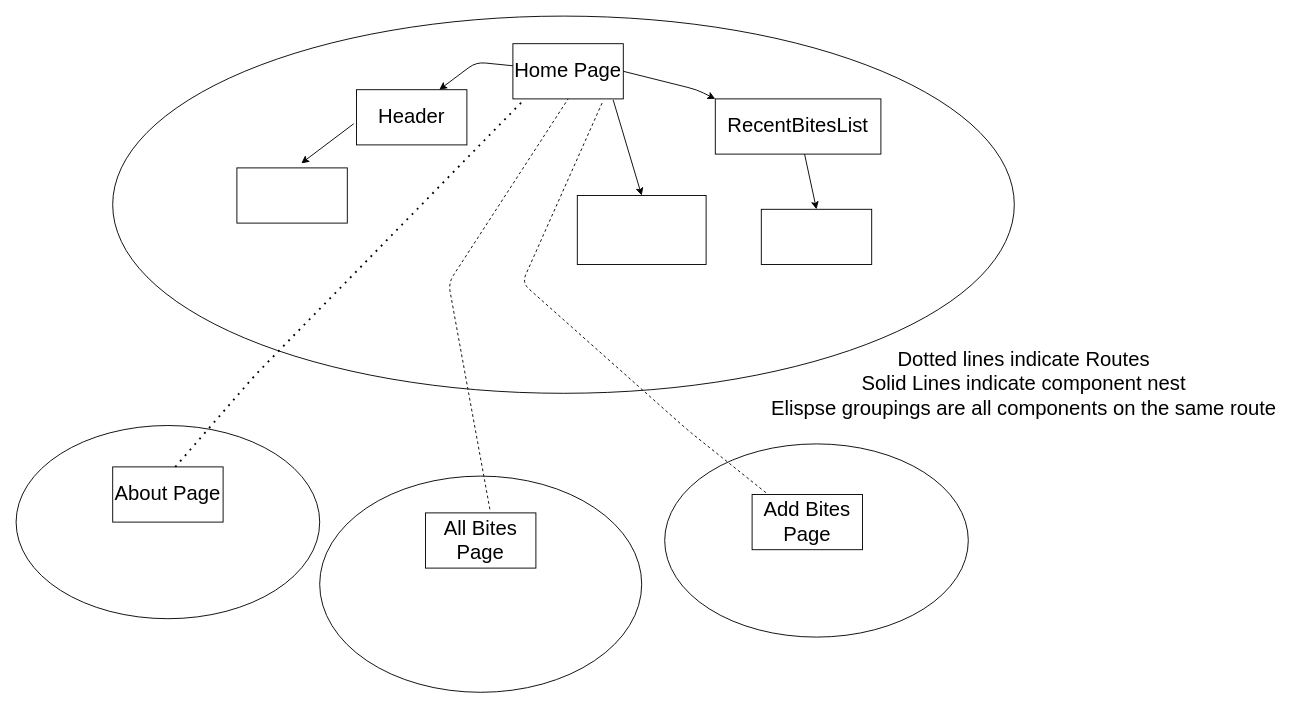
The diagram is 1302 pixels wide and 708 high, and some of its shapes have lost their labels. The box of each missing label's shape, as (x1, y1, x2, y2) in pixels:
Bite: (760, 208, 872, 264)
MainContent: (576, 195, 706, 264)
NavBar: (236, 167, 347, 223)
